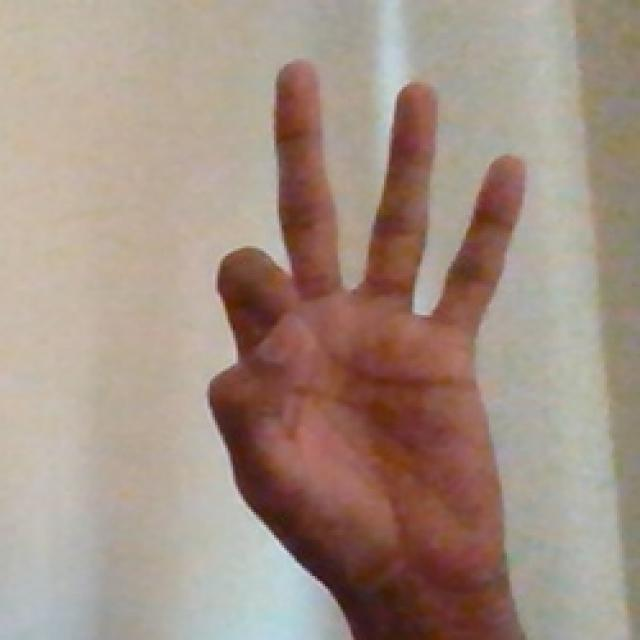Numeric-9: (203, 48, 536, 603)
